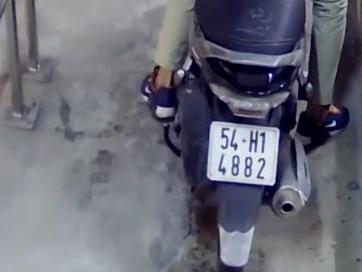num_plate: (208, 119, 277, 185)
